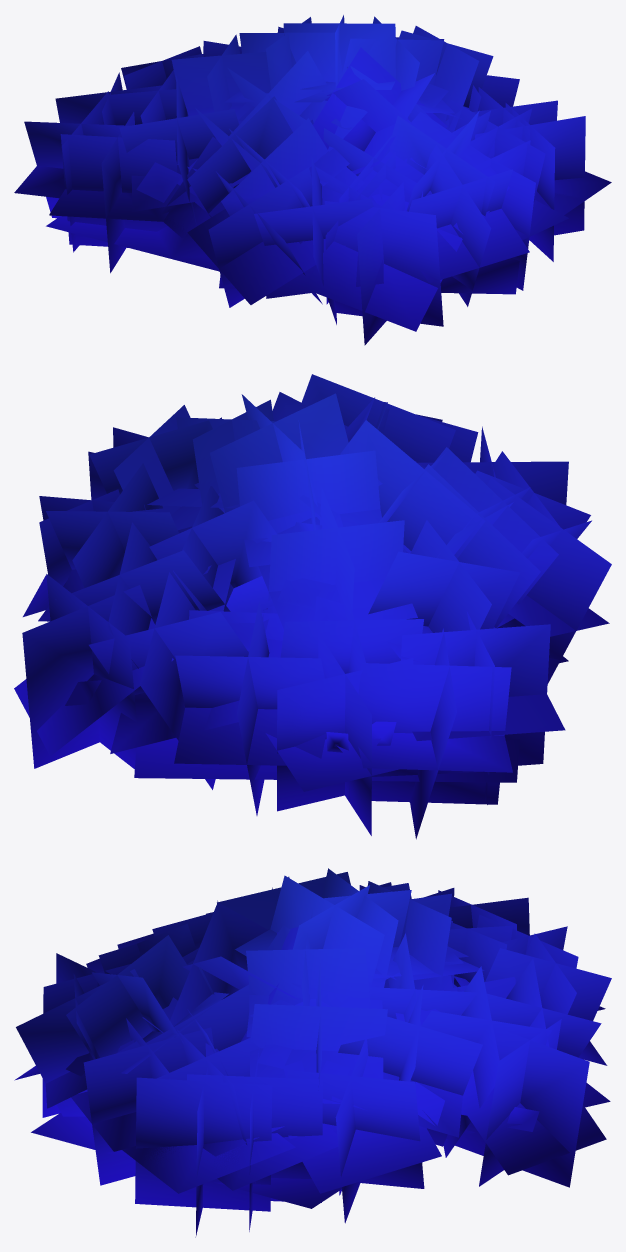
Rendered from TSI_Flower_Bush_01A.fbx.
The picture shows the model from 3 angles, top to bottom: view 1: azimuth 30°, elevation 25°; view 2: azimuth 150°, elevation 25°; view 3: azimuth 270°, elevation 25°; orthographic projection. The views are drawn at different scales.
Visible parts, largest first — view 1: TSI_Flower_Bush_01A_LOD0; view 2: TSI_Flower_Bush_01A_LOD0; view 3: TSI_Flower_Bush_01A_LOD0.
Boxes of the visible parts, <box> form: TSI_Flower_Bush_01A_LOD0: <box>14,15,611,345</box>; TSI_Flower_Bush_01A_LOD0: <box>14,374,611,839</box>; TSI_Flower_Bush_01A_LOD0: <box>14,868,611,1237</box>.
Bounding box in the file's own units: 356 × 177 × 355.
